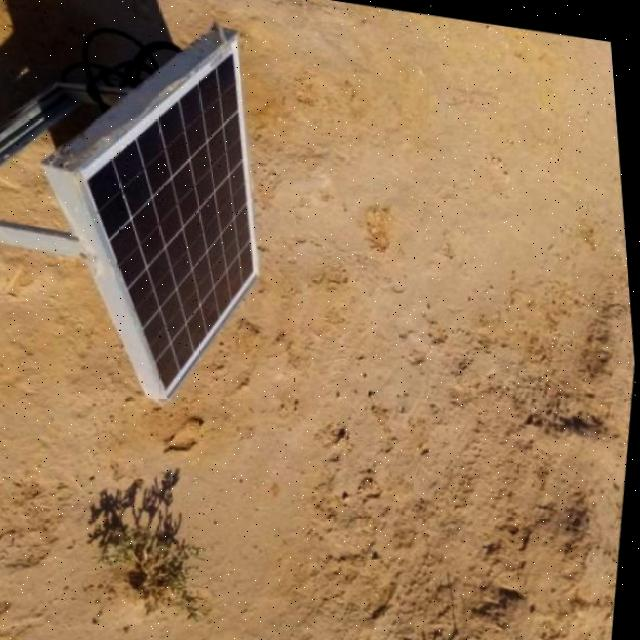Normal Solar Panel: (42, 17, 307, 413)
